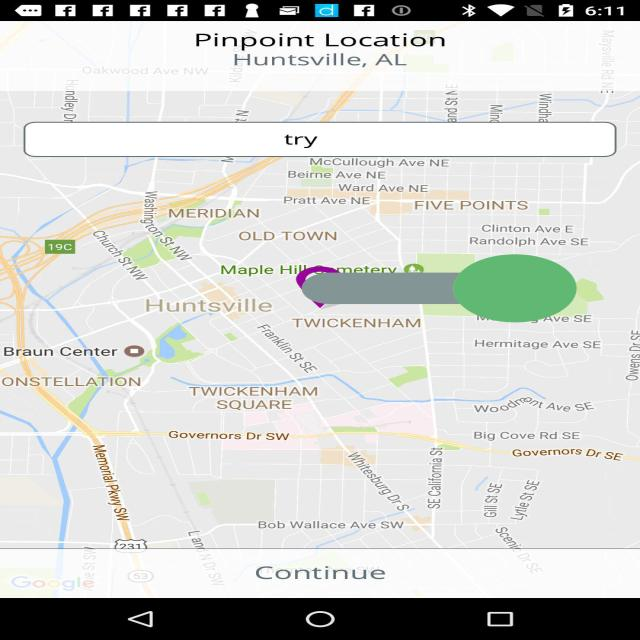social proof: (302, 212, 576, 364)
